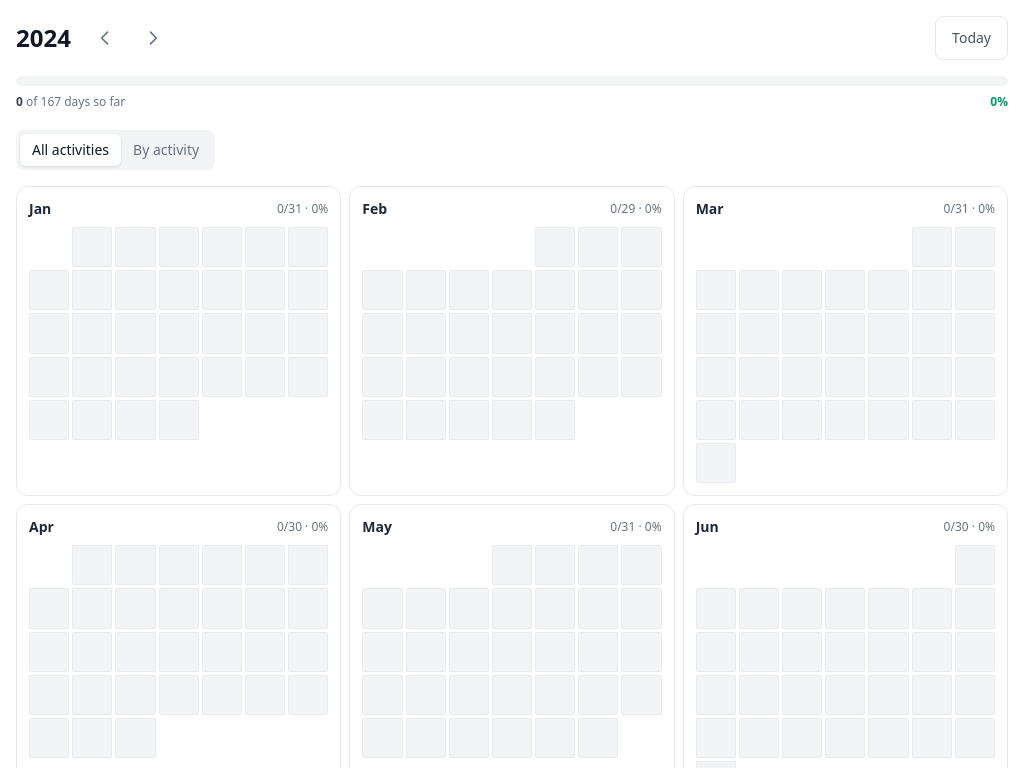
Scenario: YearView › Mobile layout › swaps the month cards for a strip per activity
Click the button "By activity" at (166,150), box [121,134,211,166]
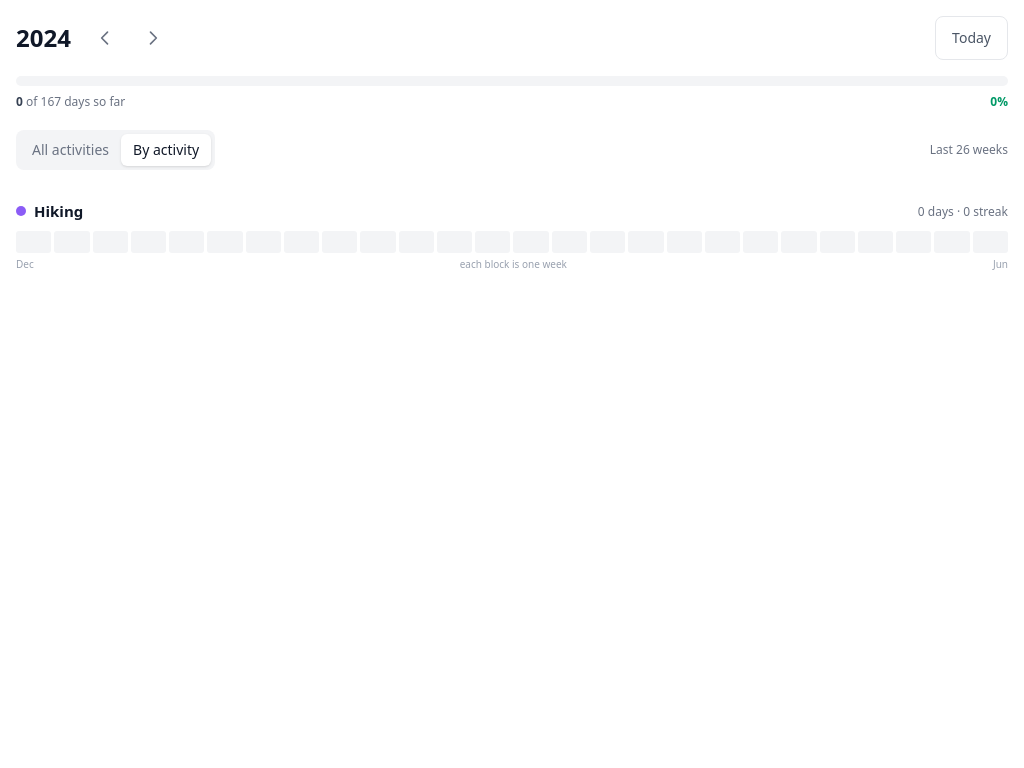
Expected: the element with test id "strip-Hiking" is shown, [16,186,1008,286]
Expected: the number of pictures with test id "week-block" is 26
